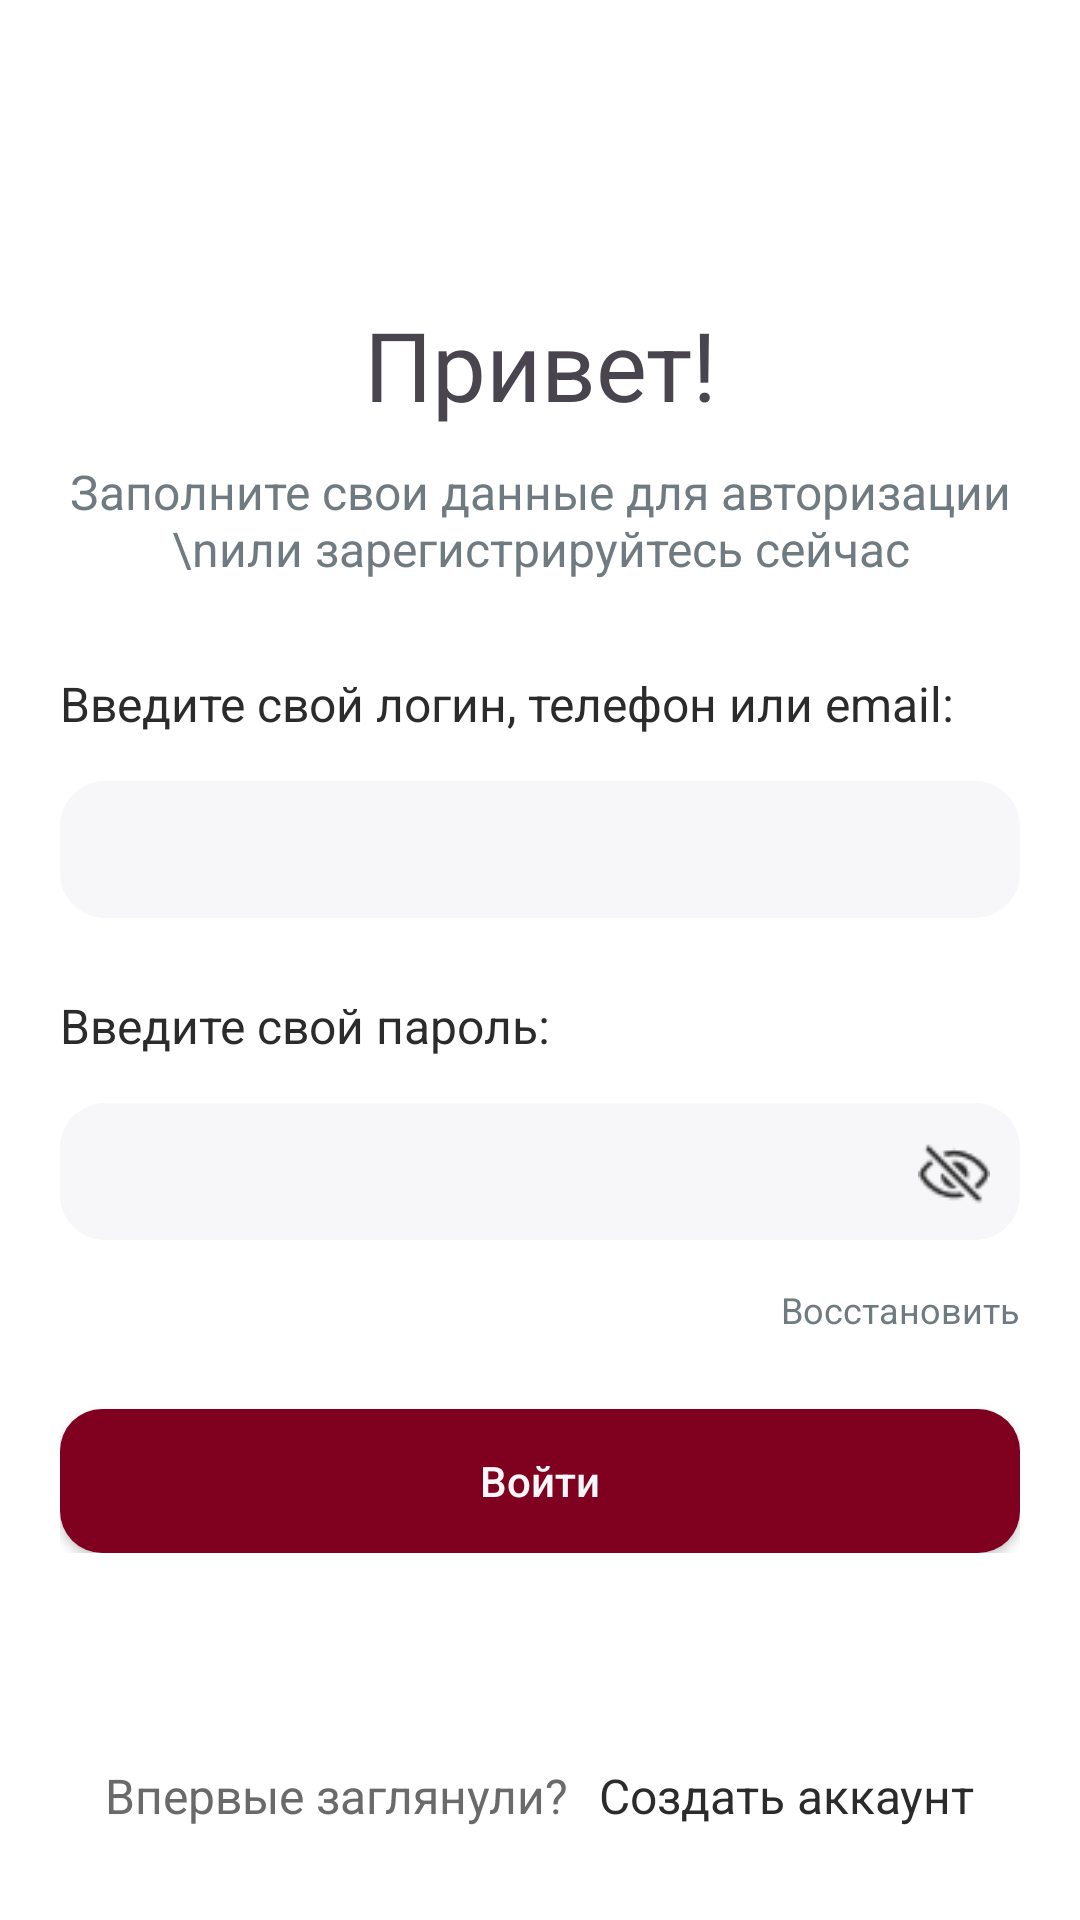

Locate icon controls on the screen. Image size 1080px×1920px, boxes as (x1, y1, x2, y2).
eye: (918, 1144, 990, 1203)
